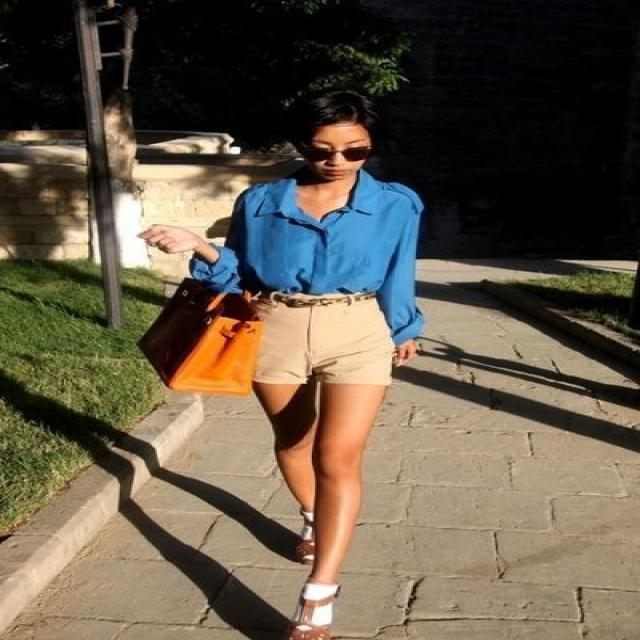bag: (137, 278, 266, 395)
shirt: (189, 170, 422, 343)
shoe: (293, 584, 336, 639)
shorts: (254, 291, 396, 396)
sunglass: (326, 145, 373, 182)
